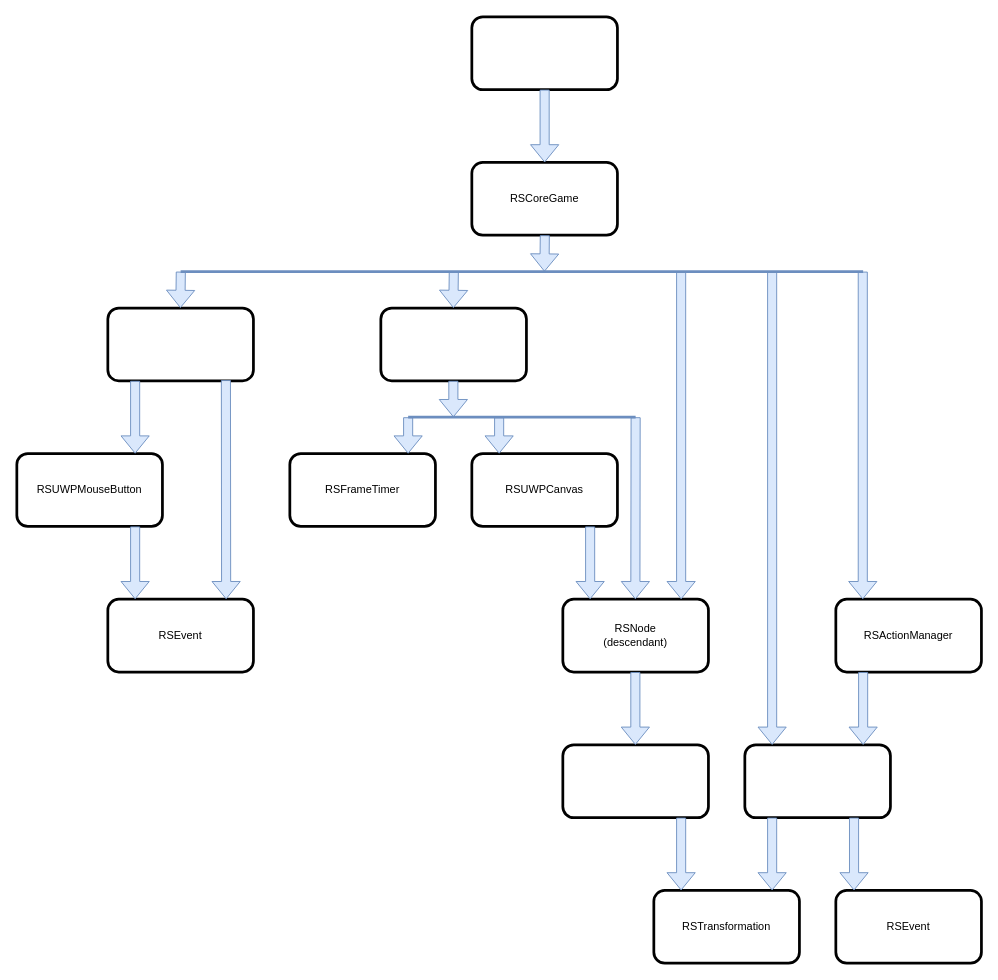
Image size: 998x980. Some labels were removed from this diagram. The centre of each missing label's shape, as x and y in pixels:
"RSAction" belongs at pixel 817 781.
"RSCoreRenderer" belongs at pixel 453 344.
"RSCoreWindow" belongs at pixel 544 53.
"RSNode" belongs at pixel 635 781.
"RSUWPMouse" belongs at pixel 180 344.
